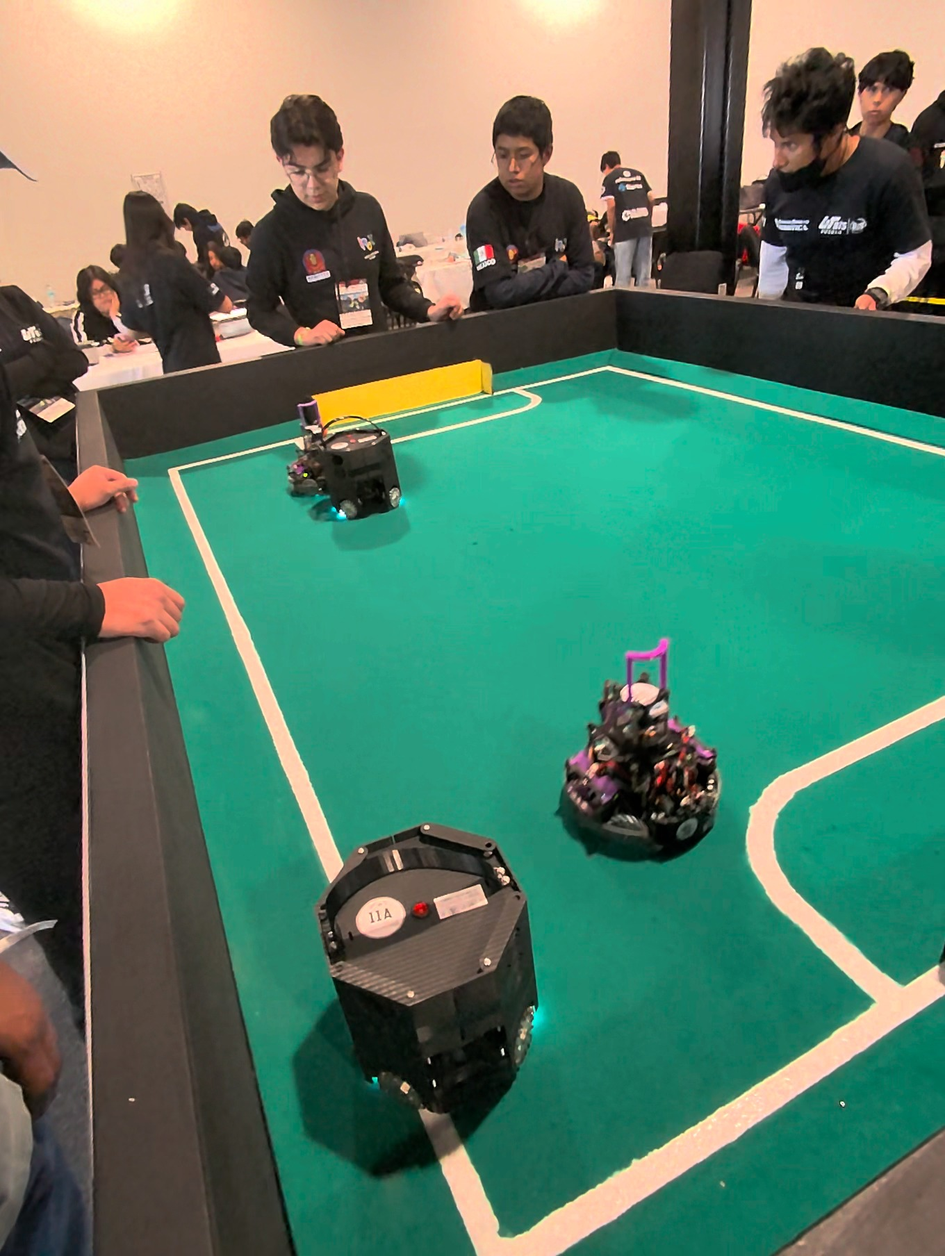Robot: (306, 799, 560, 1139), (564, 662, 722, 869), (284, 382, 408, 552)
